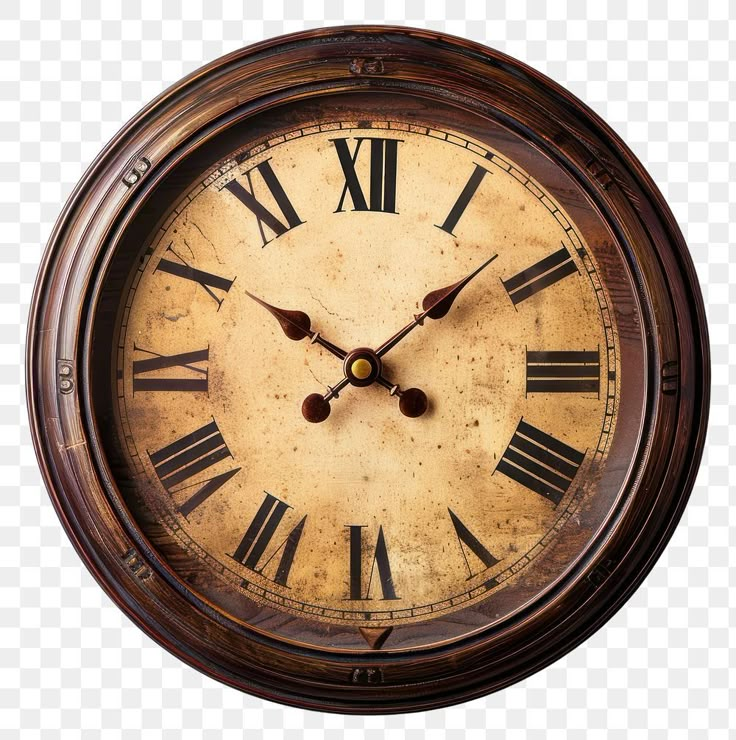clock: (20, 13, 736, 727)
